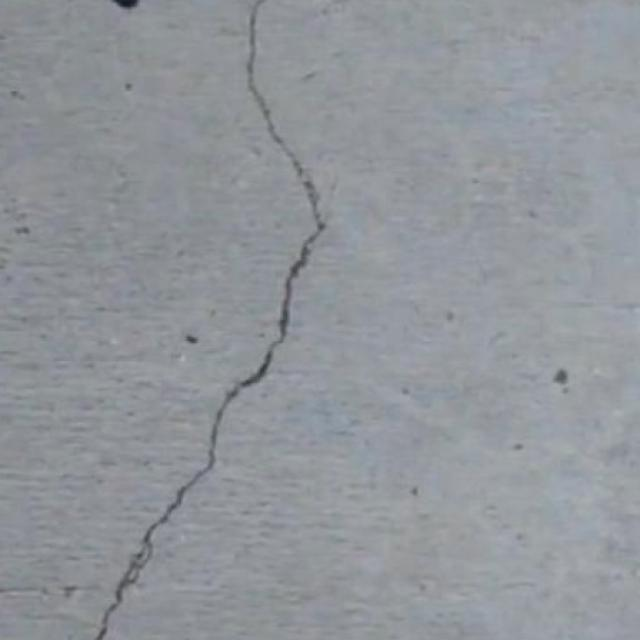Vertical Crack: (95, 0, 323, 637)
